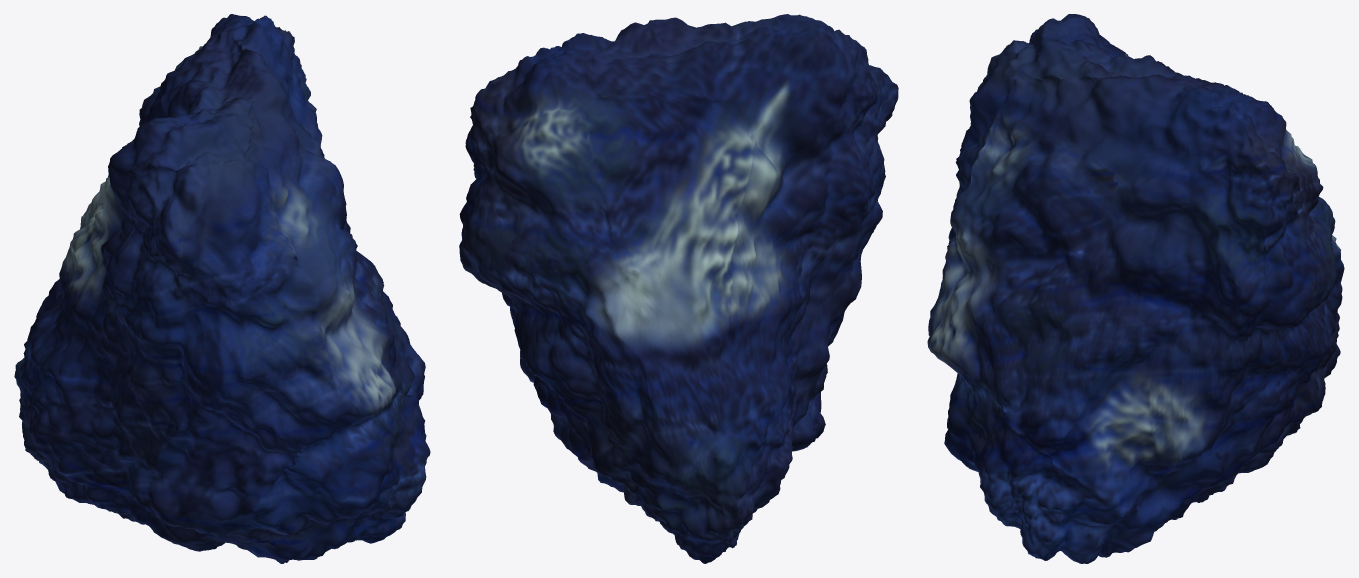
Rendered from cobalt3.gltf.
3 views of the same model, side by side, from view 1: azimuth 30°, elevation 25°; view 2: azimuth 150°, elevation 25°; view 3: azimuth 270°, elevation 25° (orthographic). The views are drawn at different scales.
Visible parts, largest first — view 1: rock.004; view 2: rock.004; view 3: rock.004.
Part boxes in pixels (x1,y1,x2,y2): rock.004: [14, 14, 430, 563]; rock.004: [459, 14, 898, 563]; rock.004: [927, 14, 1344, 563].
Bounding box in the file's own units: 0.6336 × 0.9631 × 0.7619.
1 material, 1 textured.
